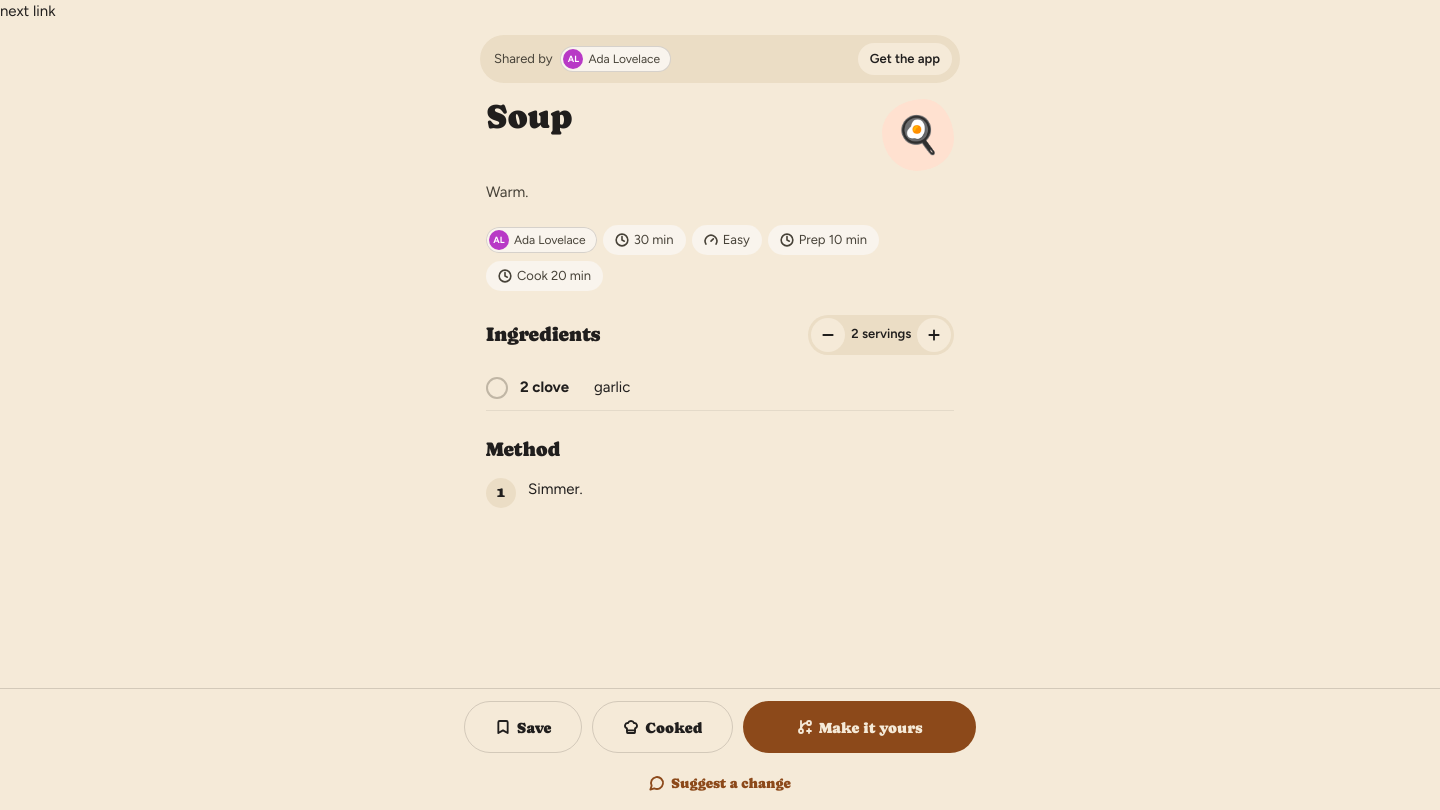
Test case: SharedRecipePage /shared/:id › signed out, Make it yours opens the sign-in sheet and does not navigate
What coordinates should you click on to do the following:
click the button "Make it yours"
I would click on:
 (860, 727)
Its box is x1=743 y1=701 x2=976 y2=753.
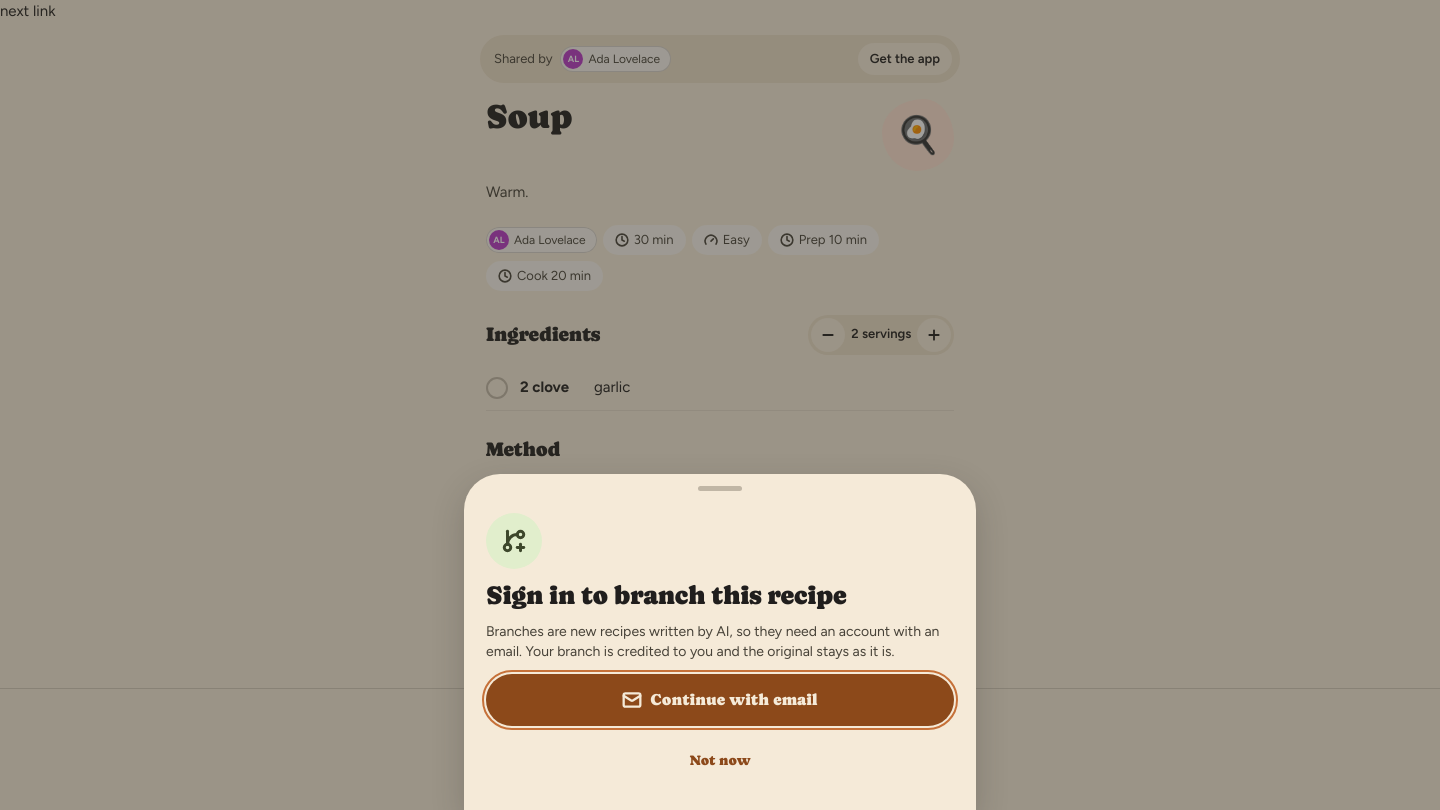
Expected: the dialog "Sign in to branch this recipe" is shown, x1=464 y1=474 x2=976 y2=809
